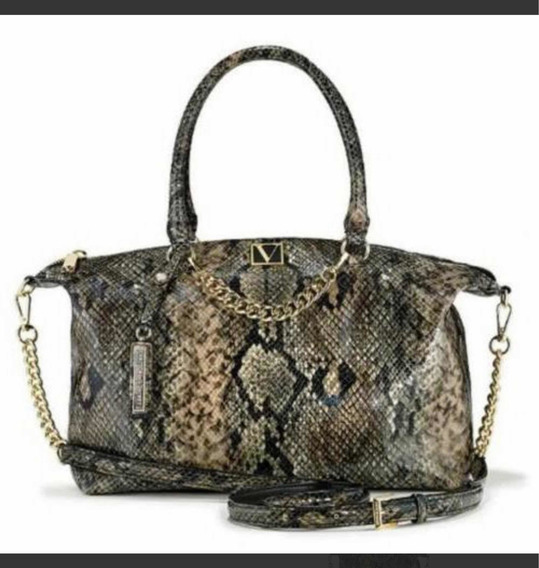cartera: (11, 42, 514, 533)
